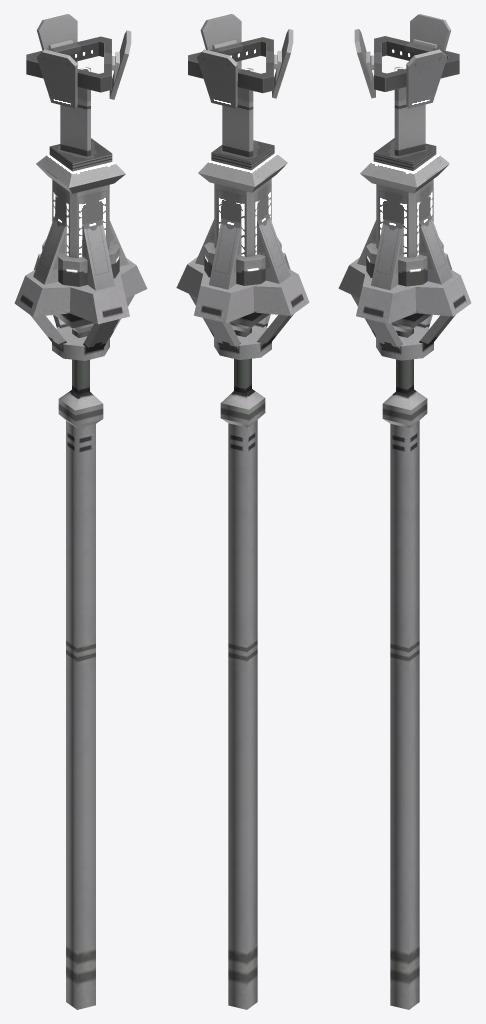
3 renders of one model, left to right at view 1: azimuth 30°, elevation 25°; view 2: azimuth 150°, elevation 25°; view 3: azimuth 330°, elevation 25°, orthographic.
Visible parts, largest first — view 1: lighthouse-lod1; view 2: lighthouse-lod1; view 3: lighthouse-lod1.
Part boxes in pixels (bbox=[...]): lighthouse-lod1: bbox=[14, 14, 147, 1009]; lighthouse-lod1: bbox=[176, 14, 309, 1009]; lighthouse-lod1: bbox=[338, 14, 471, 1009].
Size of the model in its own units: 1.6 by 12.88 by 1.6.
Materials: 1 (1 with a texture image).
